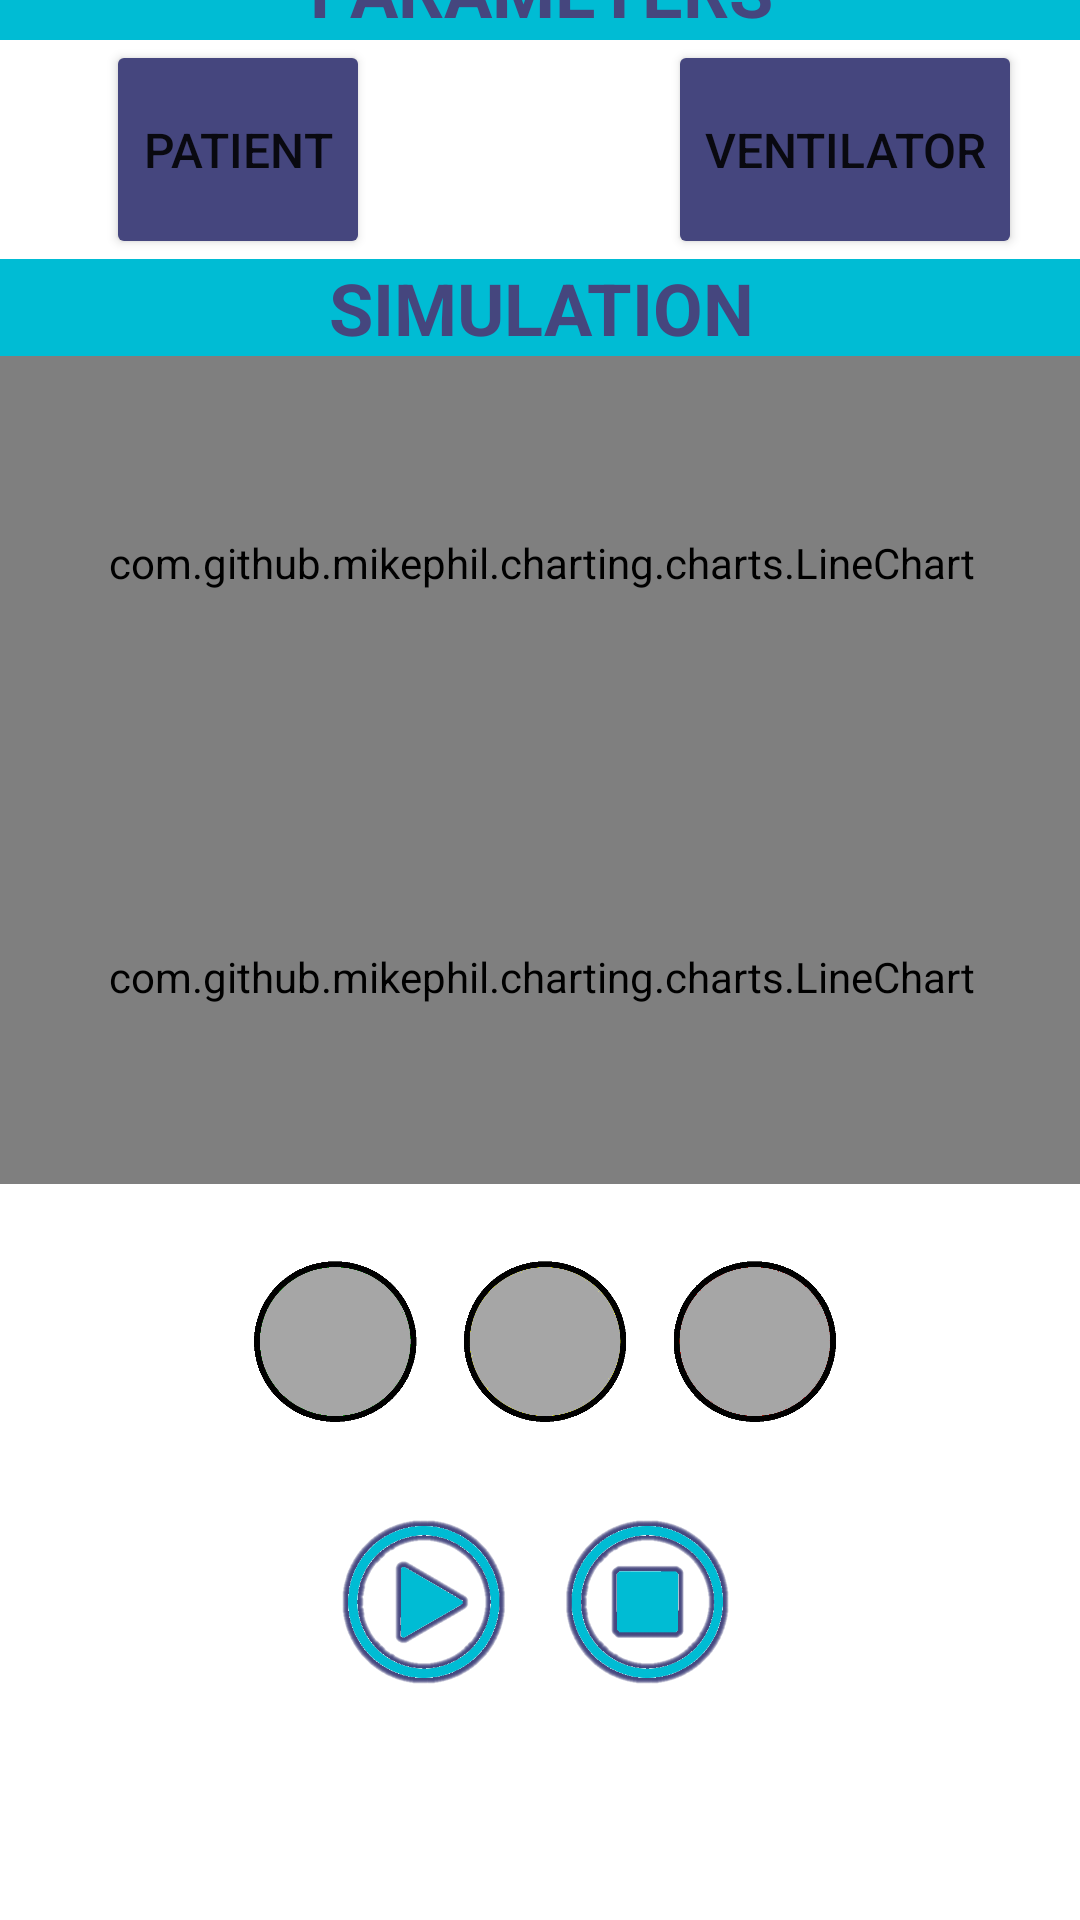

Icon click points for this 1080*1920 phone screenshot, format [x,y]:
playblu: [424,1601]
stopblu: [647,1601]
